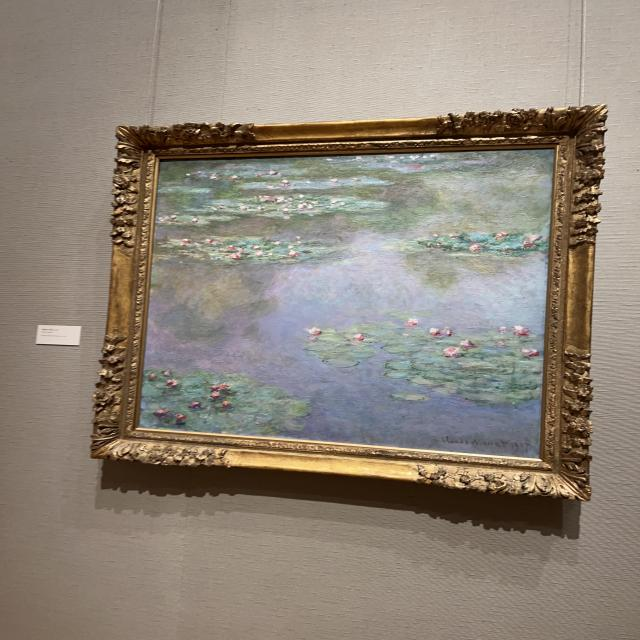lilies: (138, 152, 546, 452)
